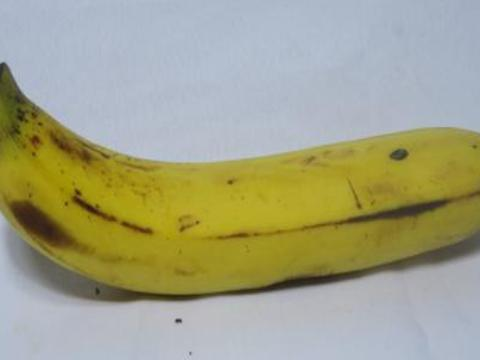ripe: (0, 54, 479, 310)
